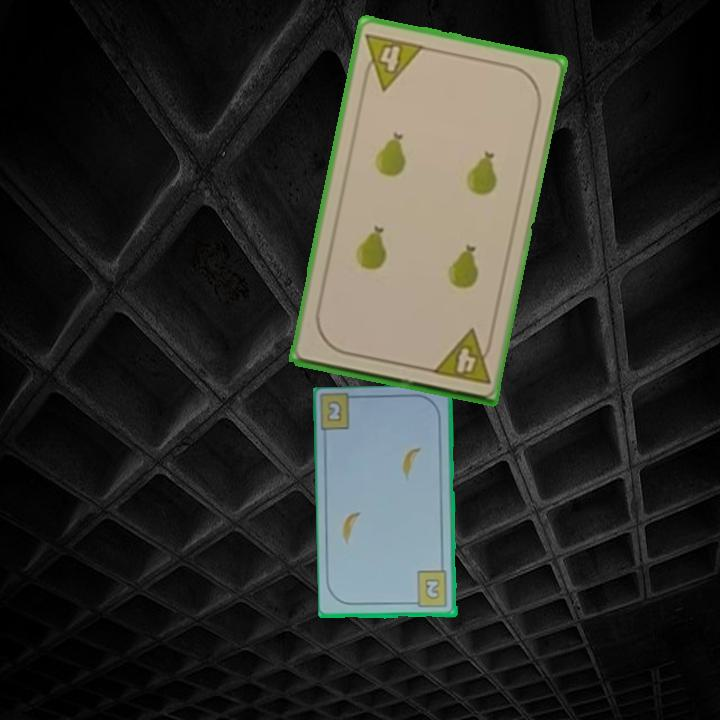2b: (408, 568, 450, 610), (324, 397, 345, 425)
4p: (358, 29, 427, 93), (428, 326, 496, 387)
